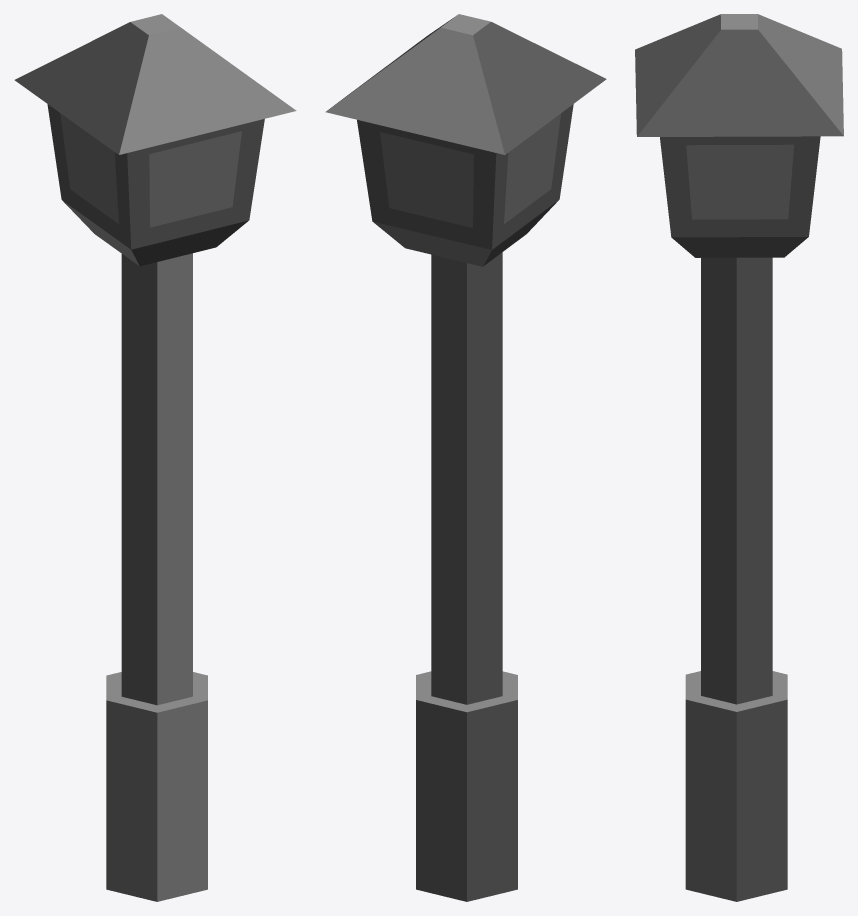
Rendered from zhuangshi_15.FBX.
3 renders of one model, left to right at view 1: azimuth 30°, elevation 25°; view 2: azimuth 150°, elevation 25°; view 3: azimuth 270°, elevation 25°, orthographic.
Parts seen in each view (by area): view 1: zhuangshi_15; view 2: zhuangshi_15; view 3: zhuangshi_15.
Part boxes in pixels (x1,y1,x2,y2): zhuangshi_15: (14,14,296,901); zhuangshi_15: (325,14,606,901); zhuangshi_15: (635,14,843,901).
Bounding box in the file's own units: 193 × 871 × 193.
